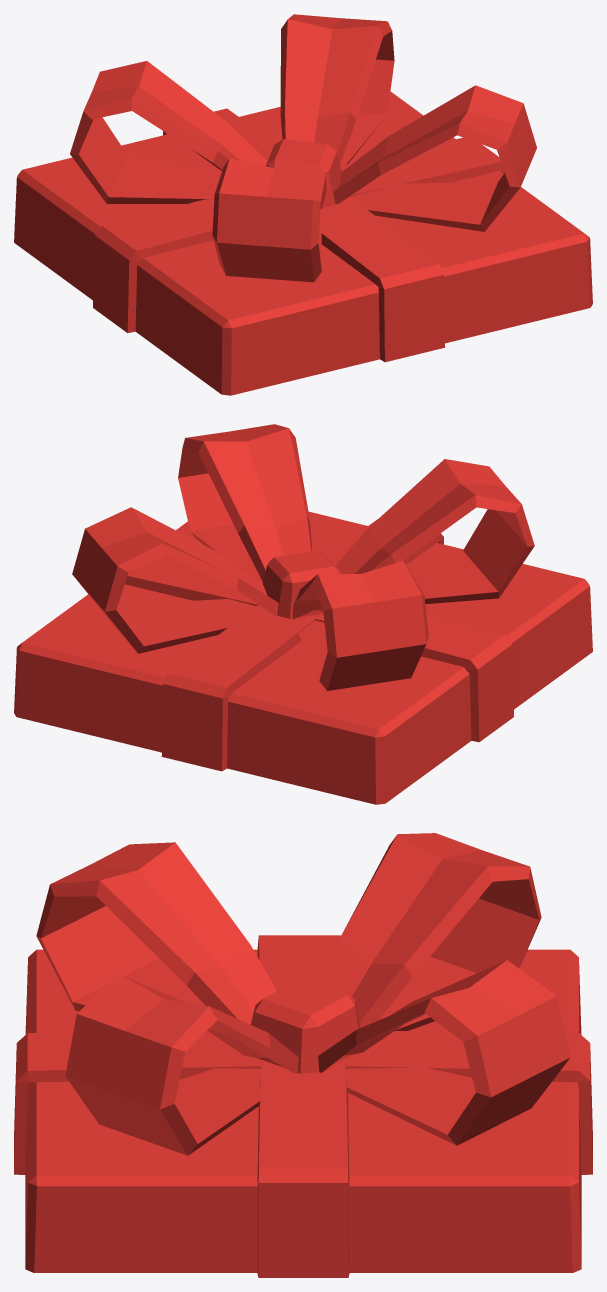
The model's file is SM_Gift_Christmas_Cube_Open_Lid.fbx.
3 renders of one model, top to bottom at view 1: azimuth 30°, elevation 25°; view 2: azimuth 150°, elevation 25°; view 3: azimuth 270°, elevation 25°, orthographic. The views are drawn at different scales.
Parts seen in each view (by area): view 1: gift-christmas-cube-open-lid; view 2: gift-christmas-cube-open-lid; view 3: gift-christmas-cube-open-lid.
Boxes of the visible parts, x1,y1,x2,y2 form: gift-christmas-cube-open-lid: (14, 14, 592, 395); gift-christmas-cube-open-lid: (14, 424, 592, 804); gift-christmas-cube-open-lid: (14, 833, 592, 1277).
Bounding box in the file's own units: 0.3317 × 0.1515 × 0.3317.
